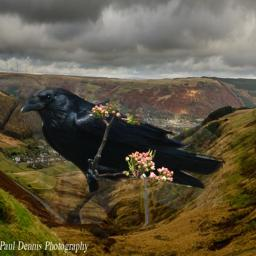Crow: (12, 83, 223, 224)
